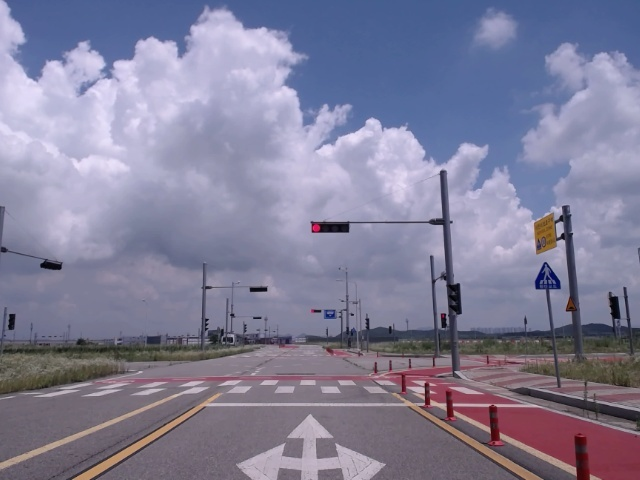red_4: (311, 223, 350, 234)
